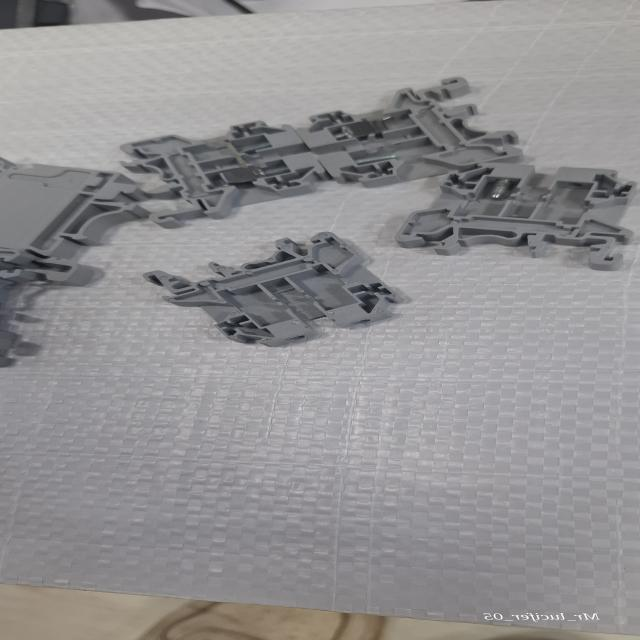Reject: (143, 228, 410, 350), (299, 74, 529, 194), (392, 162, 639, 272), (116, 114, 328, 229)
